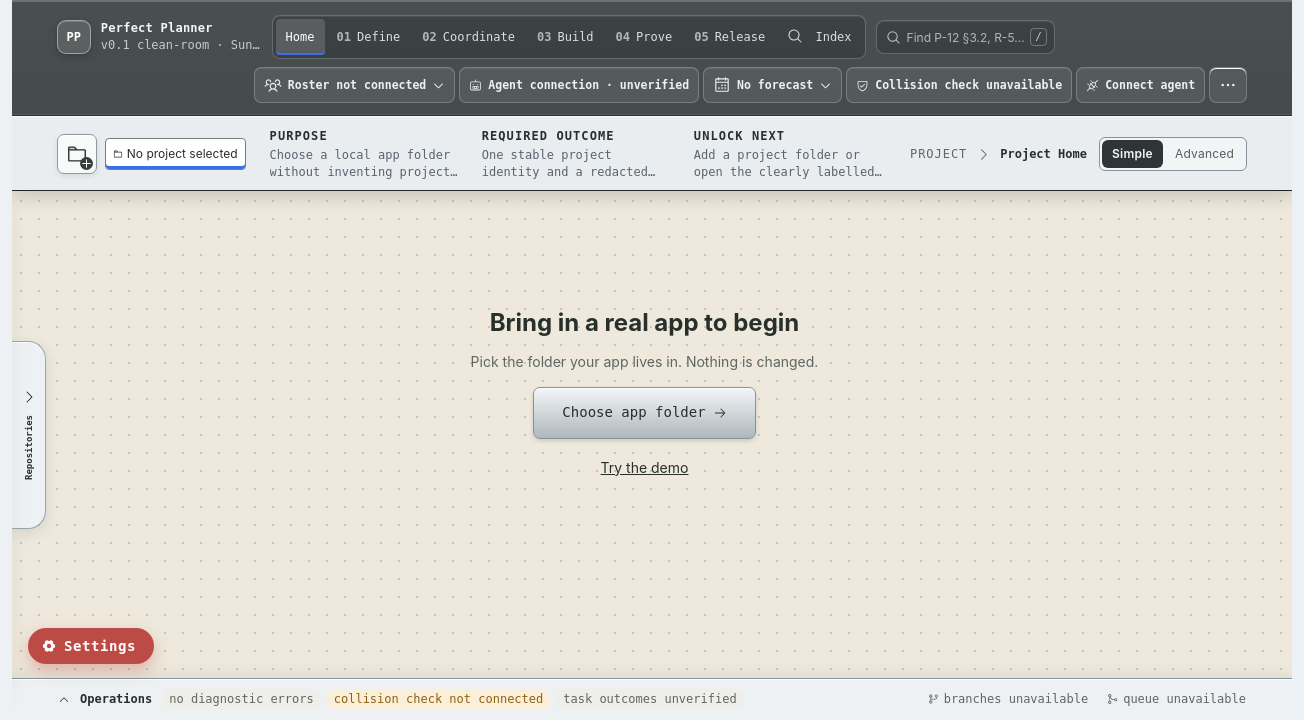
Scenario: PP-FOUNDATION-100 shell acceptance › fixture content returns only after the user explicitly opens the labelled Demo
The image size is (1304, 720).
Step 1. Click the button "Try the demo" → (644, 468), box [596,453,692,482]
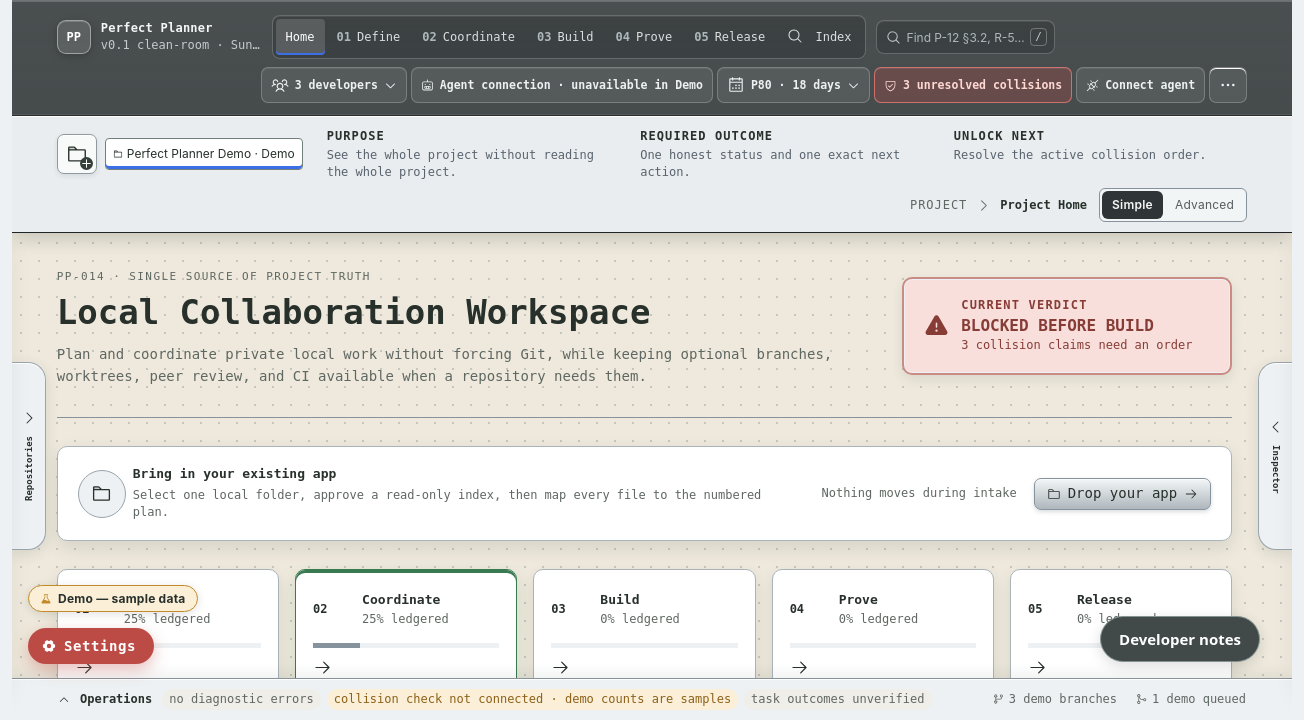
Expected: the heading "Local Collaboration Workspace" is shown, [57,292,650,332]
Expected: the element with class "workspace-stage" shows "PP-014", [57,270,371,283]
Expected: the button "Perfect Planner Demo · Demo" is shown, [105,138,303,170]
